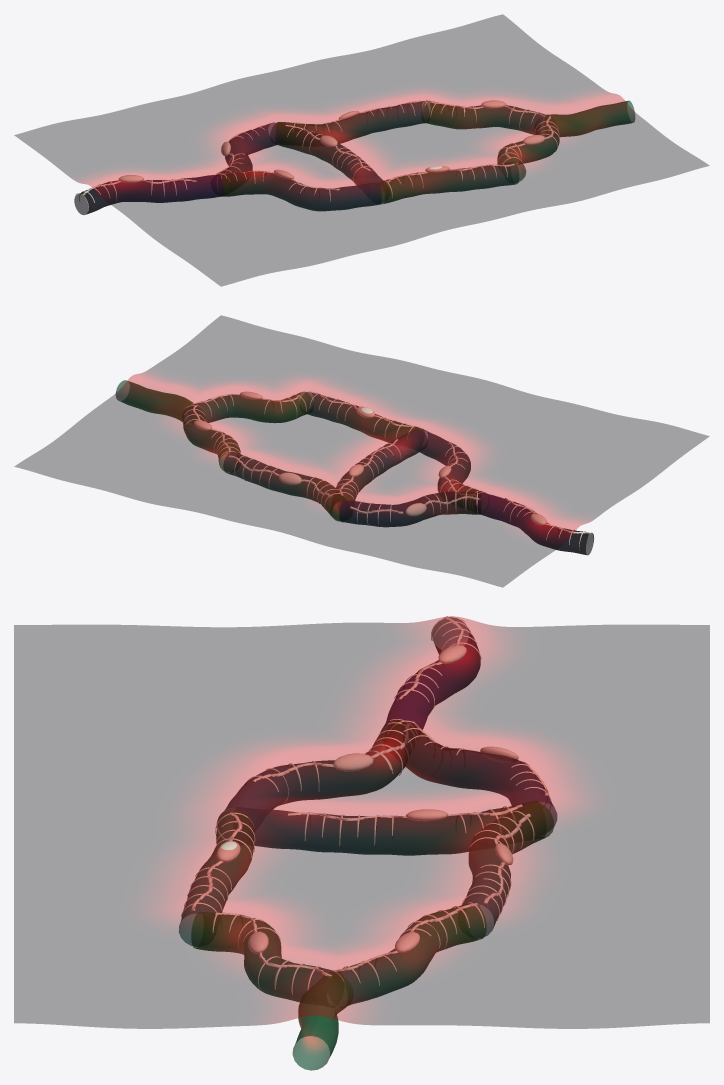
The model's file is retina.raw.glb.
3 views of the same model, one above another, from view 1: azimuth 30°, elevation 25°; view 2: azimuth 150°, elevation 25°; view 3: azimuth 270°, elevation 25° (orthographic). The views are drawn at different scales.
Visible parts, largest first — view 1: ilm, vessel, pericyte; view 2: ilm, vessel, pericyte; view 3: ilm, vessel, pericyte.
Boxes of the visible parts, x1,y1,x2,y2 form: ilm: (14,14,709,286); vessel: (74,100,634,214); pericyte: (76,100,559,211); ilm: (14,315,709,587); vessel: (115,380,593,555); pericyte: (183,391,594,550); ilm: (14,616,709,1028); vessel: (179,617,556,1070); pericyte: (181,616,551,994).
Bounding box in the file's own units: 157 × 8.66 × 110.
